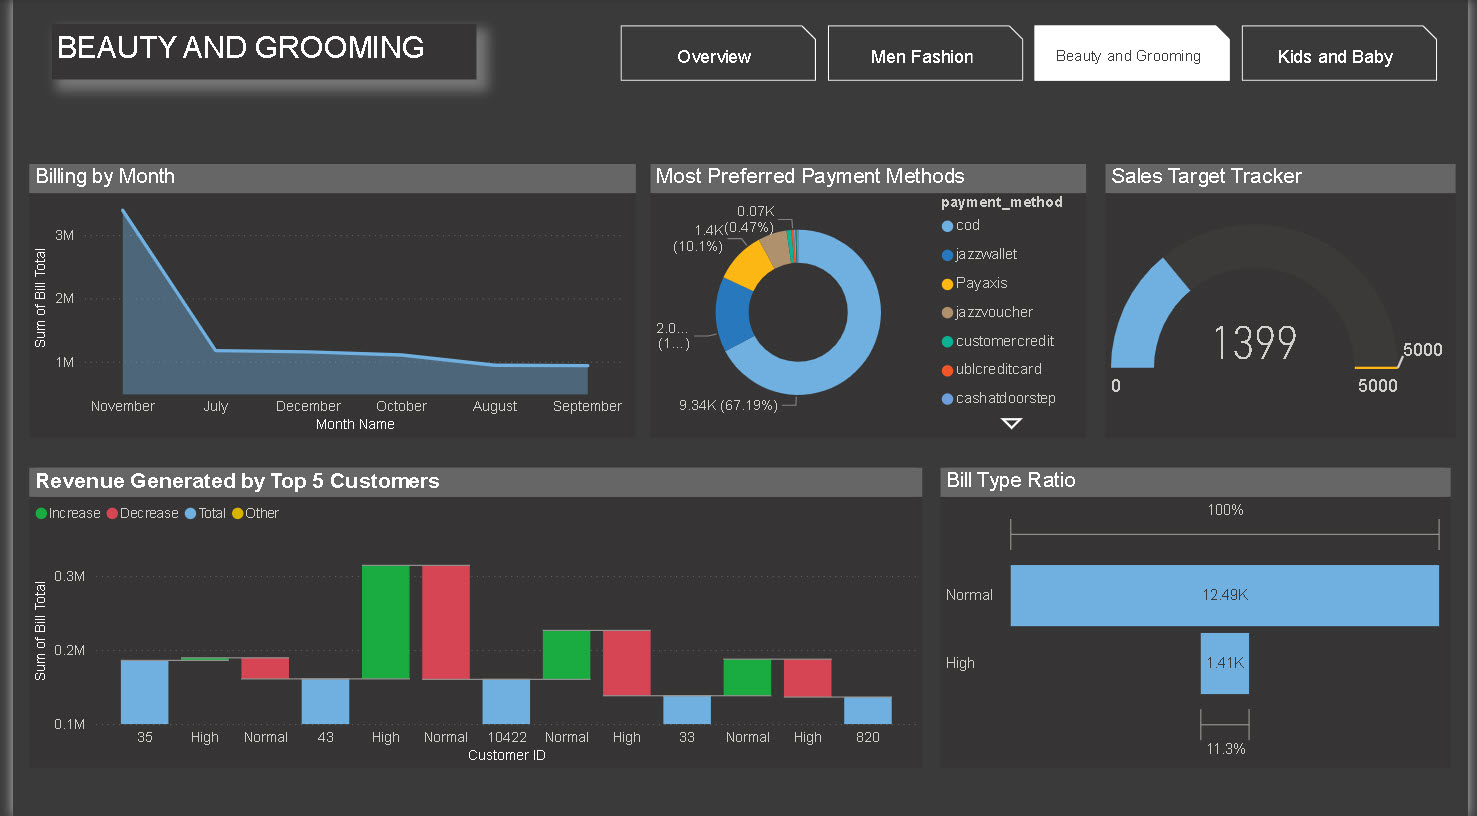

This screenshot's page, from the dashboard's own definition file:
{"tool":"powerbi","page":{"name":"Beauty and Grooming ","canvas":[1280,720],"ordinal":2},"visuals":[{"type":"pageNavigator","box":[534.5,22.9,720.2,49.5],"z":0},{"type":"textbox","box":[33.7,22.1,373.3,48.8],"z":1000},{"type":"areaChart","title":"Billing by Month","fields":{"Y":["Sum(Pakistan Largest Ecommerce Dataset.Bill Total)"],"Category":["Calender.Month Name"]},"box":[14.3,145.2,533.3,240.5],"z":2000},{"type":"donutChart","title":"Most Preferred Payment Methods","fields":{"Category":["Pakistan Largest Ecommerce Dataset.payment_method"],"Y":["CountNonNull(Pakistan Largest Ecommerce Dataset.payment_method)"]},"box":[560.7,145.2,383.3,240.5],"z":4000},{"type":"funnel","title":"Bill Type Ratio","fields":{"Y":["CountNonNull(Pakistan Largest Ecommerce Dataset.Bill Type)"],"Category":["Pakistan Largest Ecommerce Dataset.Bill Type"]},"box":[815.5,411.9,448.8,264.3],"z":5000},{"type":"waterfallChart","title":"Revenue Generated by Top 5 Customers  ","fields":{"Category":["Pakistan Largest Ecommerce Dataset.Customer ID"],"Y":["Sum(Pakistan Largest Ecommerce Dataset.Bill Total)"],"Breakdown":["Pakistan Largest Ecommerce Dataset.Bill Type"]},"box":[14.3,411.9,785.7,264.3],"z":6000},{"type":"gauge","title":" Sales Target Tracker","fields":{"Y":["Pakistan Largest Ecommerce Dataset.Proucts Sold"],"TargetValue":["Pakistan Largest Ecommerce Dataset.Target Sale"],"MaxValue":["Pakistan Largest Ecommerce Dataset.Target Sale"]},"box":[960.7,145.2,308.3,240.5],"z":8000}]}

Visuals, with their boxes in screenshot pixels (x1, y1, x2, y2), scaled from the page's 1280x720 canvas onto the 1477x816 screenshot:
pageNavigator: detection(617, 26, 1448, 82)
textbox: detection(39, 25, 470, 80)
"Billing by Month" areaChart: detection(17, 165, 632, 437)
"Most Preferred Payment Methods" donutChart: detection(647, 165, 1089, 437)
"Bill Type Ratio" funnel: detection(941, 467, 1459, 766)
"Revenue Generated by Top 5 Customers  " waterfallChart: detection(17, 467, 923, 766)
" Sales Target Tracker" gauge: detection(1109, 165, 1464, 437)
